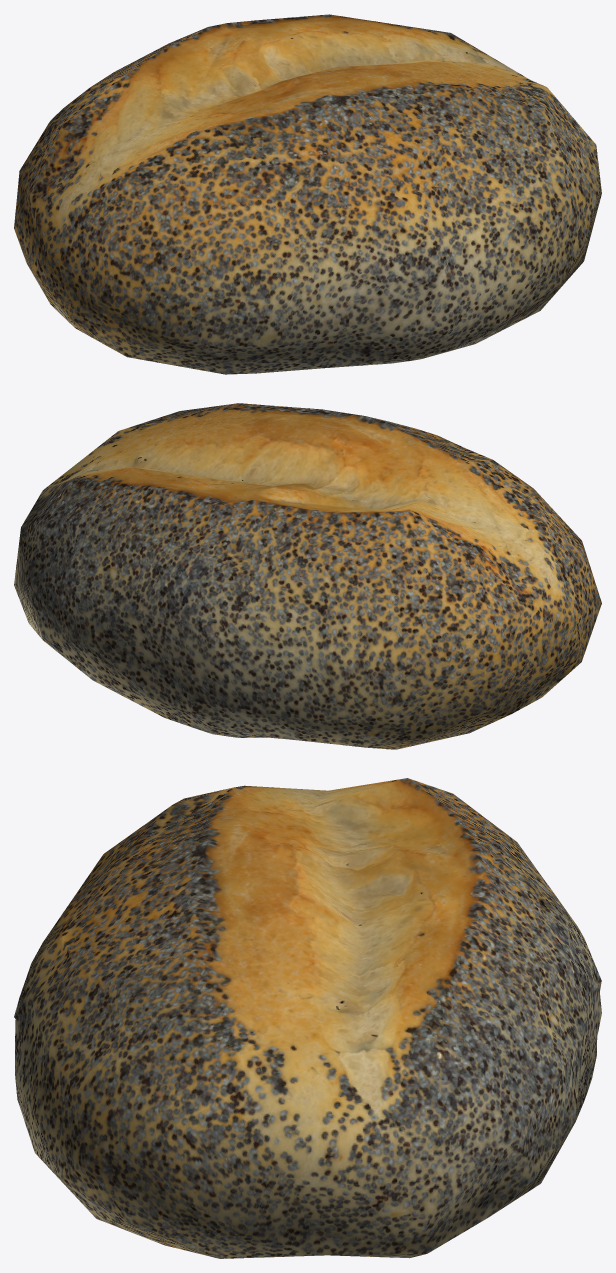
Rendered from 3DBread013_LQ-1K-JPG.obj.
3 views of the same model, one above another, from view 1: azimuth 30°, elevation 25°; view 2: azimuth 150°, elevation 25°; view 3: azimuth 270°, elevation 25° (orthographic). The views are drawn at different scales.
Visible parts, largest first — view 1: 3DBread013_LQ-1K-JPG; view 2: 3DBread013_LQ-1K-JPG; view 3: 3DBread013_LQ-1K-JPG.
Part boxes in pixels (<box>): 3DBread013_LQ-1K-JPG: <box>14,14,601,374</box>; 3DBread013_LQ-1K-JPG: <box>14,403,601,749</box>; 3DBread013_LQ-1K-JPG: <box>14,778,601,1258</box>.
Size of the model in its own units: 0.1151 by 0.0496 by 0.0894.
Materials: 1 (1 with a texture image).
